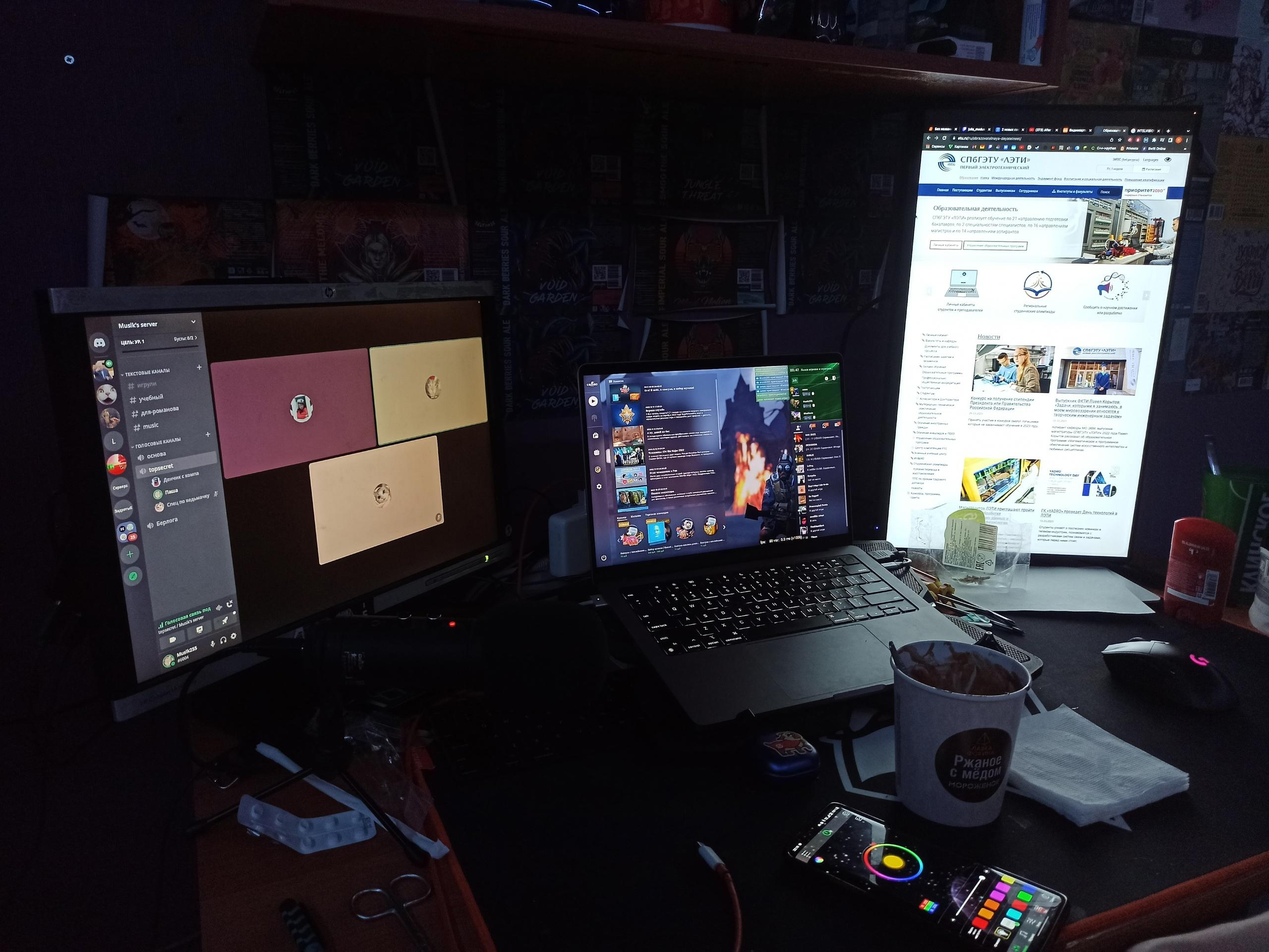monitor: (36, 274, 524, 755), (869, 99, 1208, 575), (568, 349, 864, 583)
